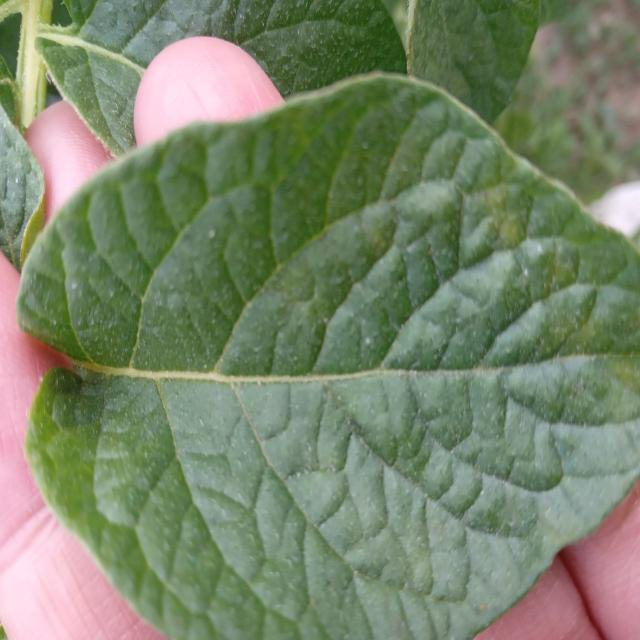healthy: (14, 69, 638, 637)
